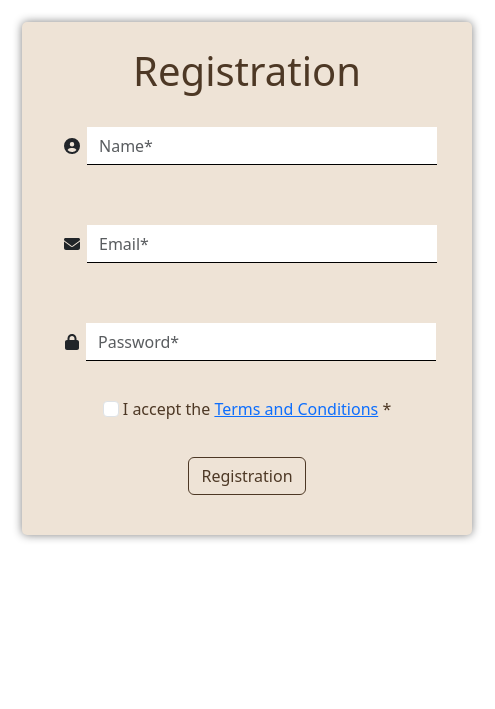
Test: Form checks › Password input field › Should get an errormessage when password input has at least 1 but less than 8 characters and button is clicked
In the password field with placeholder "Password*": [261, 342] box top-left (86, 323), bottom-right (436, 361), type "*"
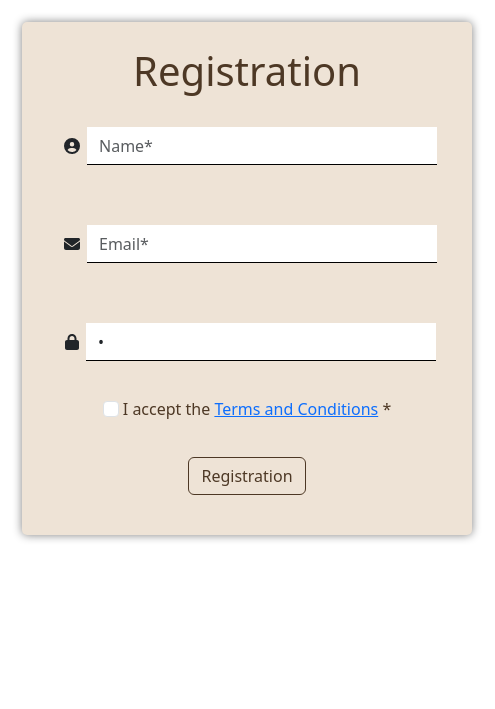
Click the button "Registration": [247, 476] box top-left (188, 457), bottom-right (306, 495)
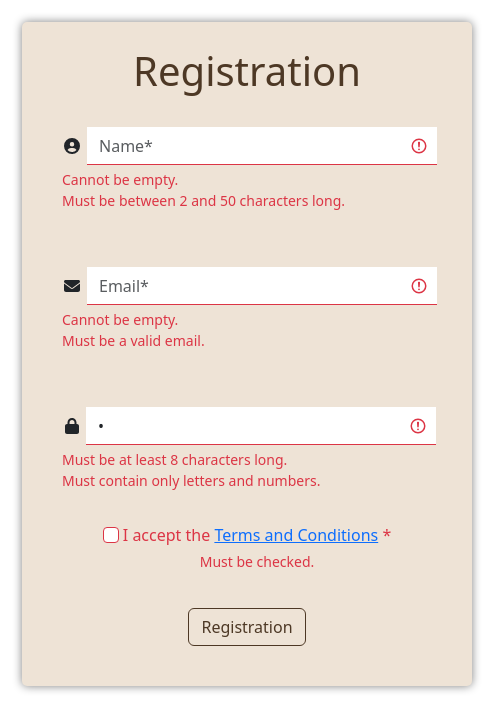
Check: the list item "Must be at least 8 characters long." is shown, box top-left (62, 450), bottom-right (287, 469)
